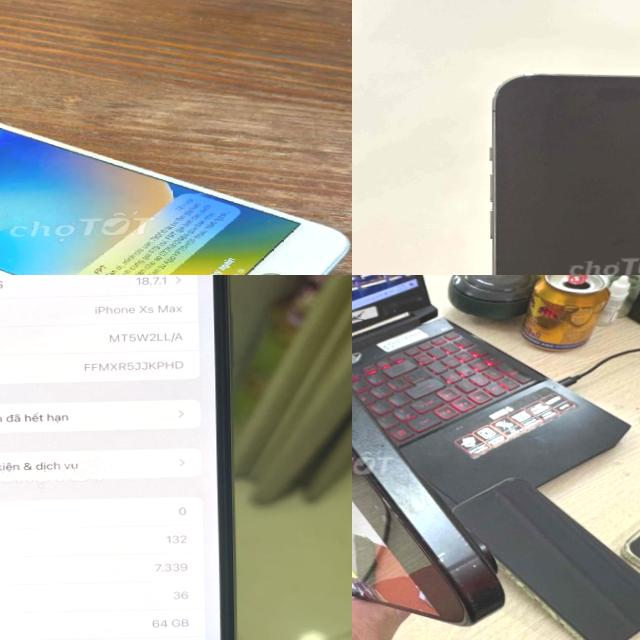gen_14: (461, 61, 640, 275)
gen_16: (352, 345, 518, 640)
gen_7_8: (0, 88, 352, 275)
gen_x_xs: (0, 275, 254, 640)
scratch: (422, 543, 488, 576), (450, 579, 485, 610)
